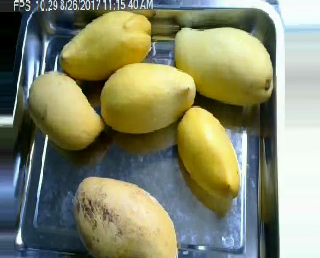Mango: (73, 175, 177, 258), (174, 25, 274, 104), (100, 63, 195, 134), (59, 11, 151, 79), (177, 102, 240, 197), (29, 70, 103, 148)
